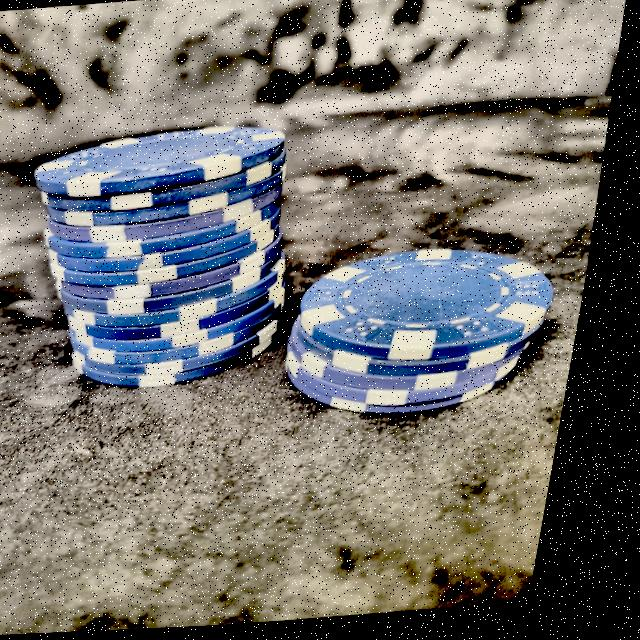Chip: (0, 106, 343, 406), (269, 225, 576, 446)
